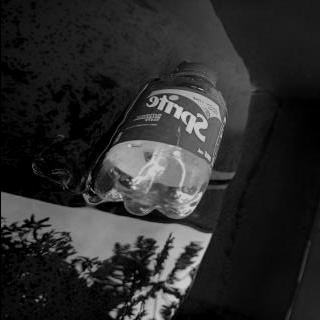bottle: (89, 61, 228, 220)
